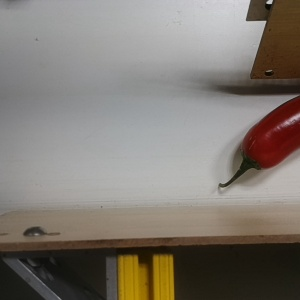Cut Point: (235, 139, 273, 175)
